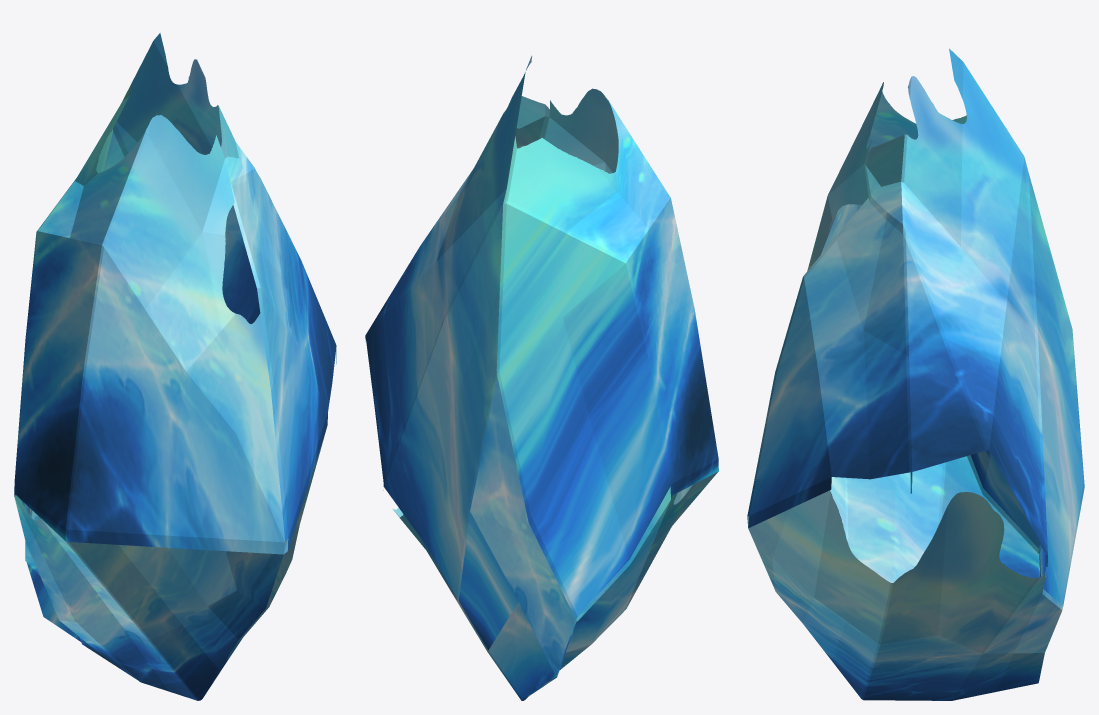
File: bing_101.FBX
The picture shows the model from 3 angles, left to right: view 1: azimuth 30°, elevation 25°; view 2: azimuth 150°, elevation 25°; view 3: azimuth 270°, elevation 25°; orthographic projection. The views are drawn at different scales.
Parts seen in each view (by area): view 1: bing_101; view 2: bing_101; view 3: bing_101.
Boxes of the visible parts, x1,y1,x2,y2 form: bing_101: (14,33,336,700); bing_101: (365,55,718,700); bing_101: (747,48,1084,700).
Size of the model in its own units: 70.96 by 151 by 66.68.
